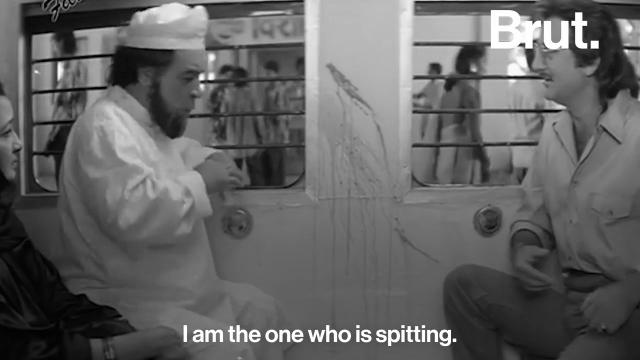spit: (316, 46, 412, 252)
